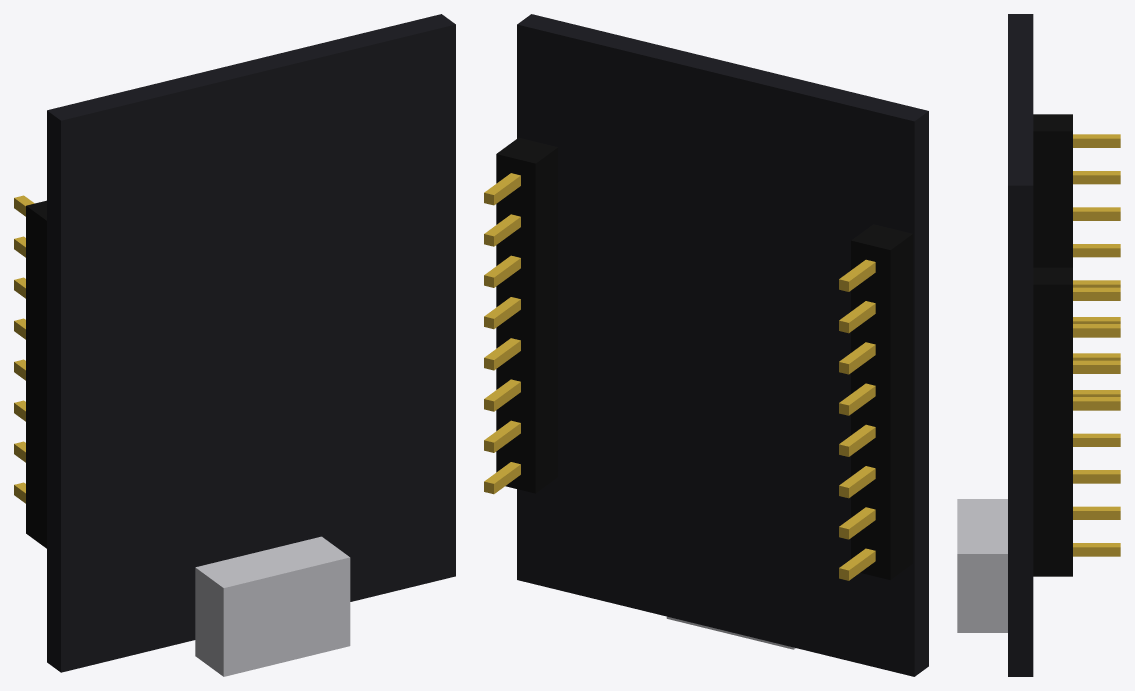
The model's file is mod-d1mini.glb.
The picture shows the model from 3 angles, left to right: view 1: azimuth 30°, elevation 25°; view 2: azimuth 150°, elevation 25°; view 3: azimuth 270°, elevation 25°; orthographic projection. The views are drawn at different scales.
Parts seen in each view (by area): view 1: PCB-ESP, MET-PORT, HEADER; view 2: PCB-ESP, HEADER, MET-PIN (×16); view 3: HEADER, PCB-ESP, MET-PIN (×16), MET-PORT.
Boxes of the visible parts, left/top/right/bottom form: PCB-ESP: left=47, top=14, right=455, bottom=672; MET-PORT: left=195, top=536, right=350, bottom=676; HEADER: left=26, top=200, right=46, bottom=548; PCB-ESP: left=517, top=14, right=928, bottom=676; HEADER: left=496, top=137, right=912, bottom=580; MET-PIN (×16): left=484, top=173, right=875, bottom=580; HEADER: left=1033, top=114, right=1072, bottom=576; PCB-ESP: left=1008, top=14, right=1033, bottom=676; MET-PIN (×16): left=1073, top=134, right=1120, bottom=556; MET-PORT: left=957, top=499, right=1007, bottom=632.
Size of the model in its own units: 25.6 by 35.2 by 10.3.
